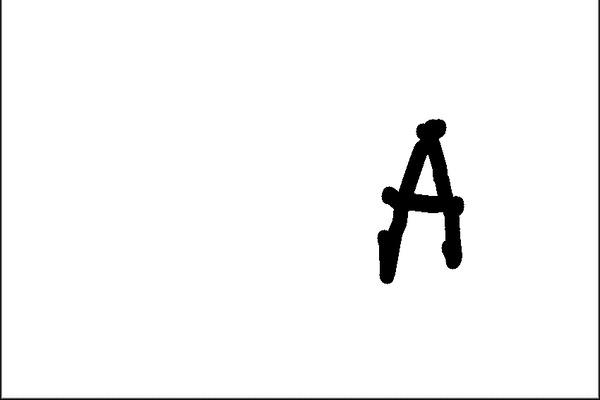A: (363, 112, 477, 286)
